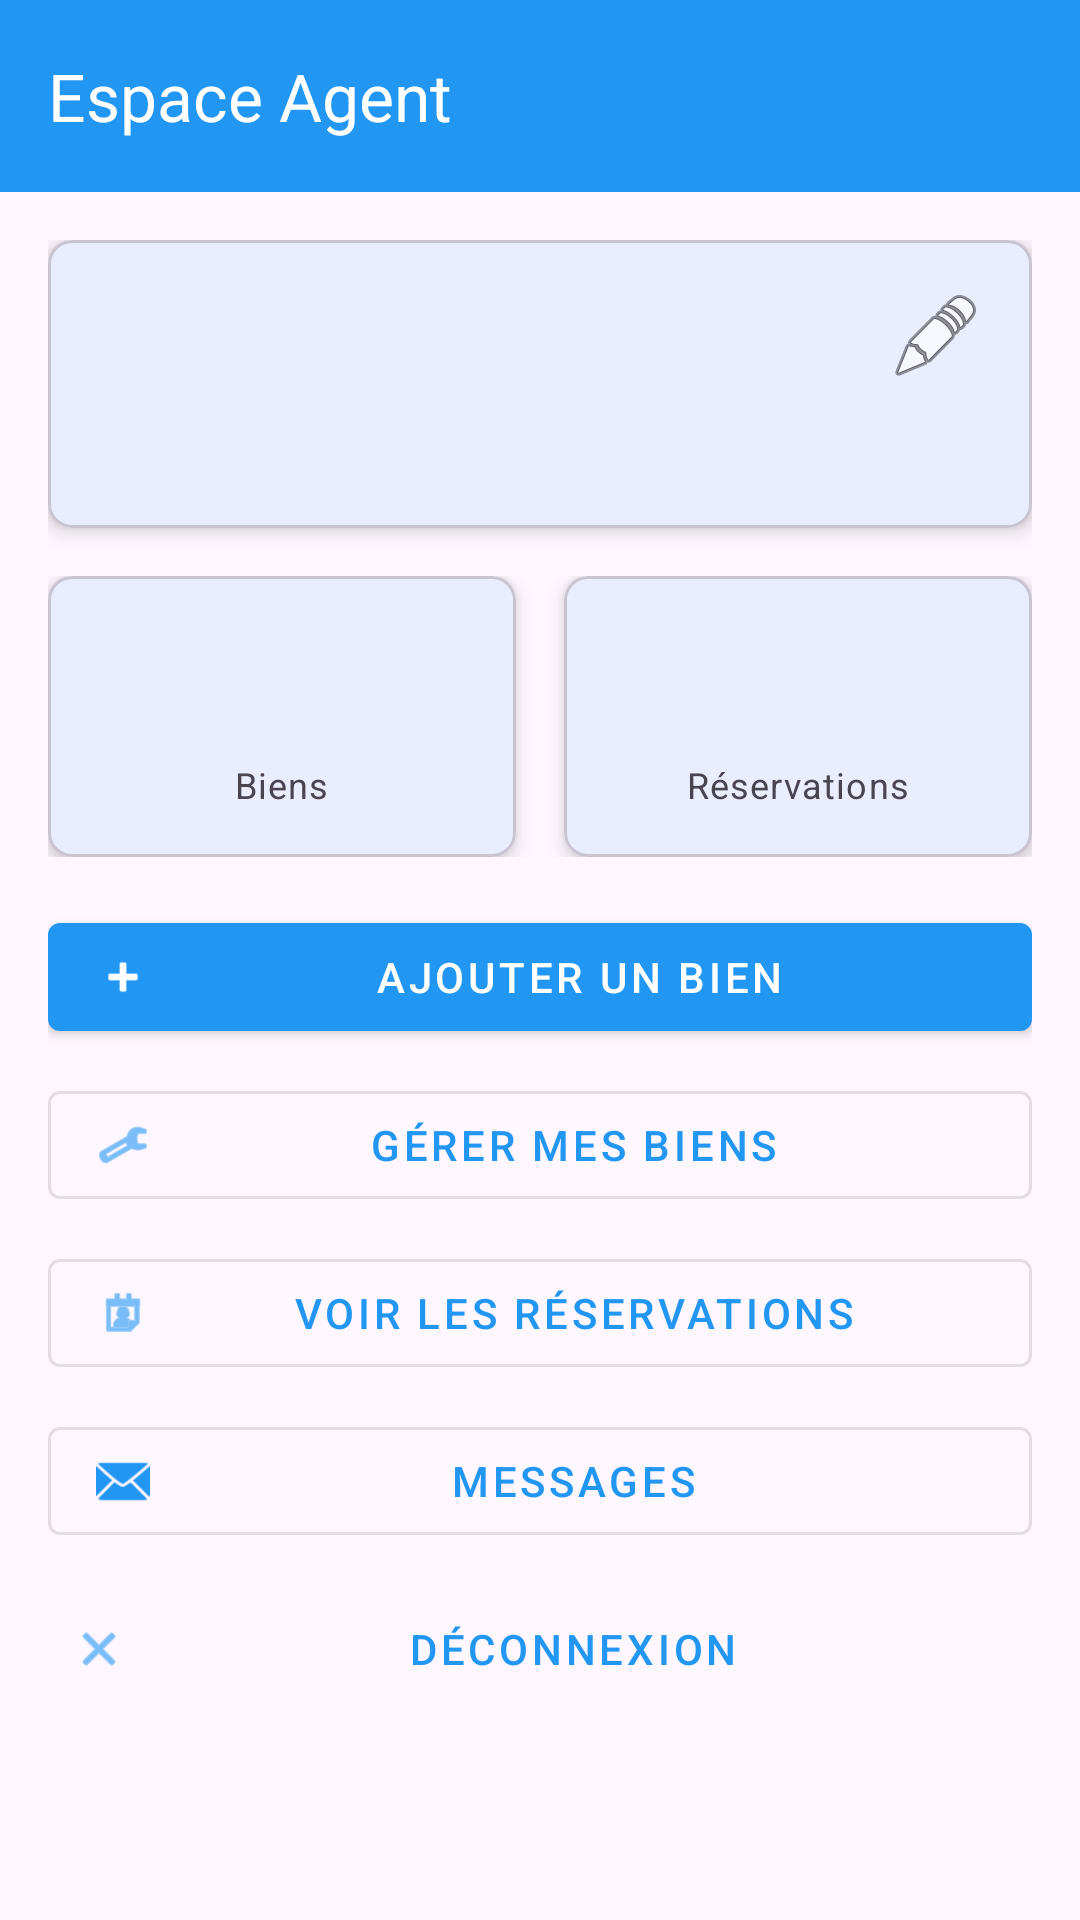

Locate icon controls on the screen. Image size 1080x1920, boxes as (x1, y1, x2, y2).
Modifier le profil: (895, 295, 976, 376)
